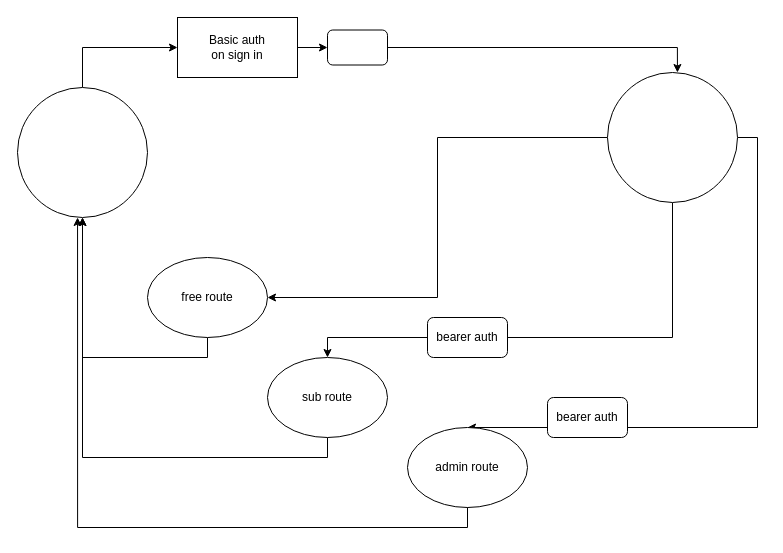
This 783x553 diagram has some shape labels left out. The shapes that lost their labels are listed below. From the top down, each one's centre as x and y in pixels, then its label:
(357,47): user token
(82,152): client
(672,137): server
